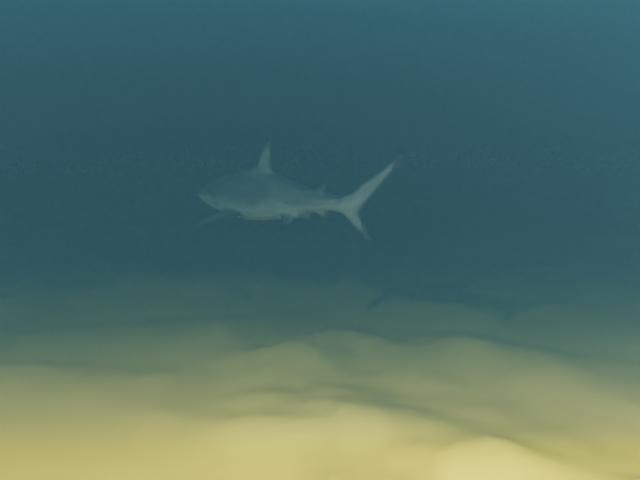Carribean Shark.001: (192, 140, 402, 240)
